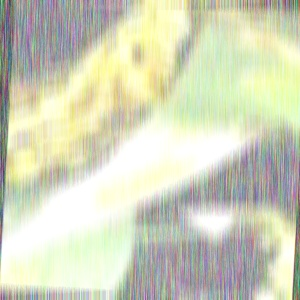Leaf_Blast: (84, 120, 236, 209)
